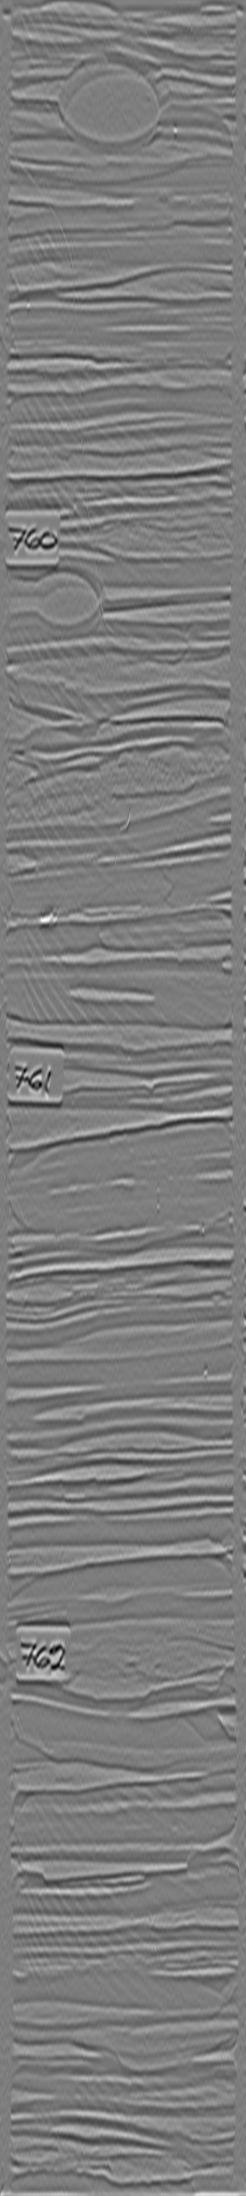hplug: (24, 563, 115, 644)
scal: (50, 48, 179, 153)
